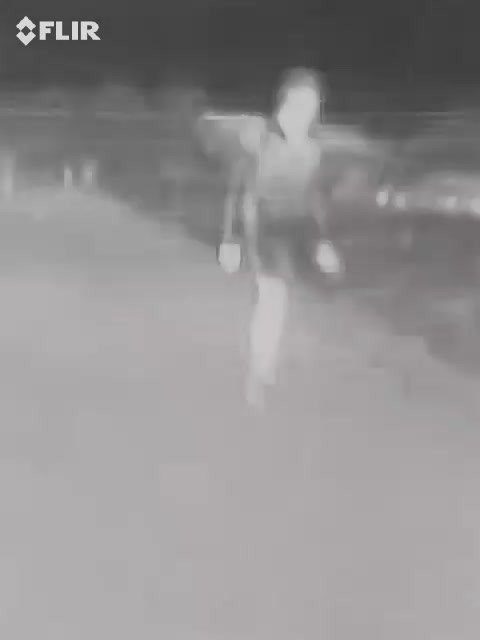head: (277, 73, 327, 142)
